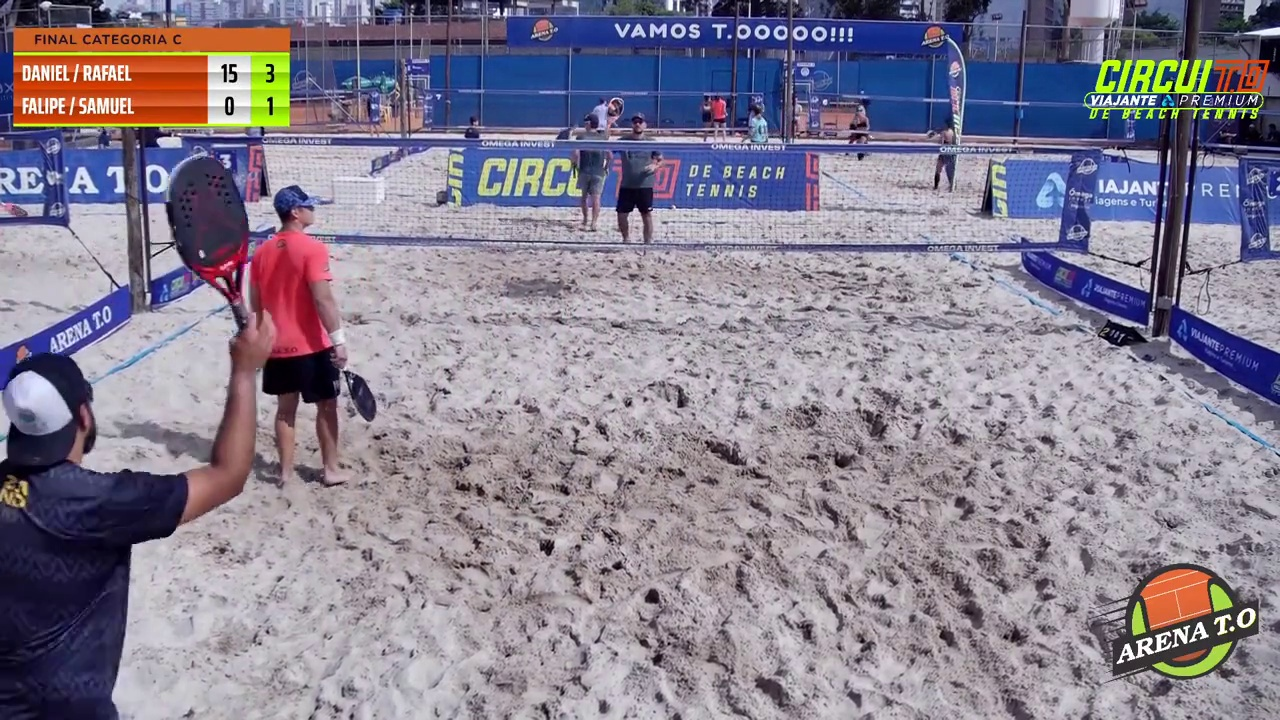court_line: (529, 0, 665, 493), (646, 0, 807, 375)
